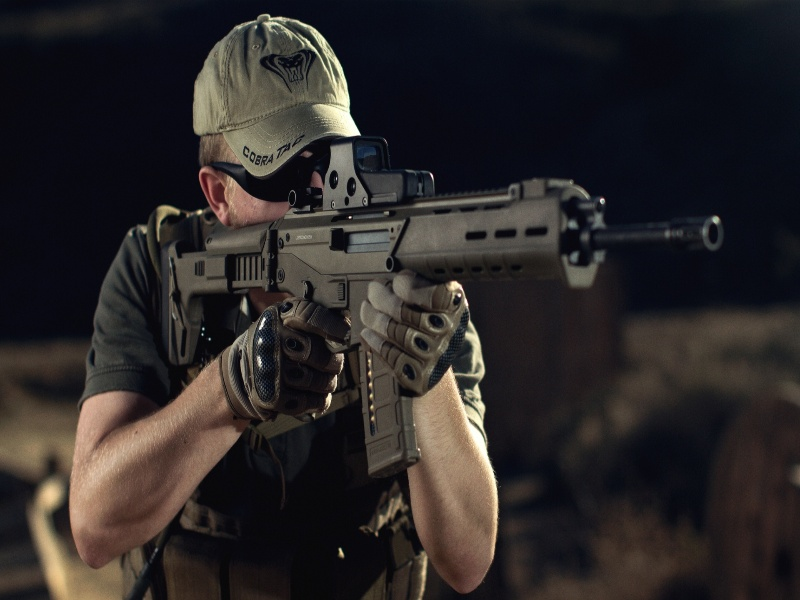person: (69, 13, 497, 600)
weapon: (161, 136, 726, 480)
